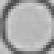no answer: (1, 0, 54, 54)
